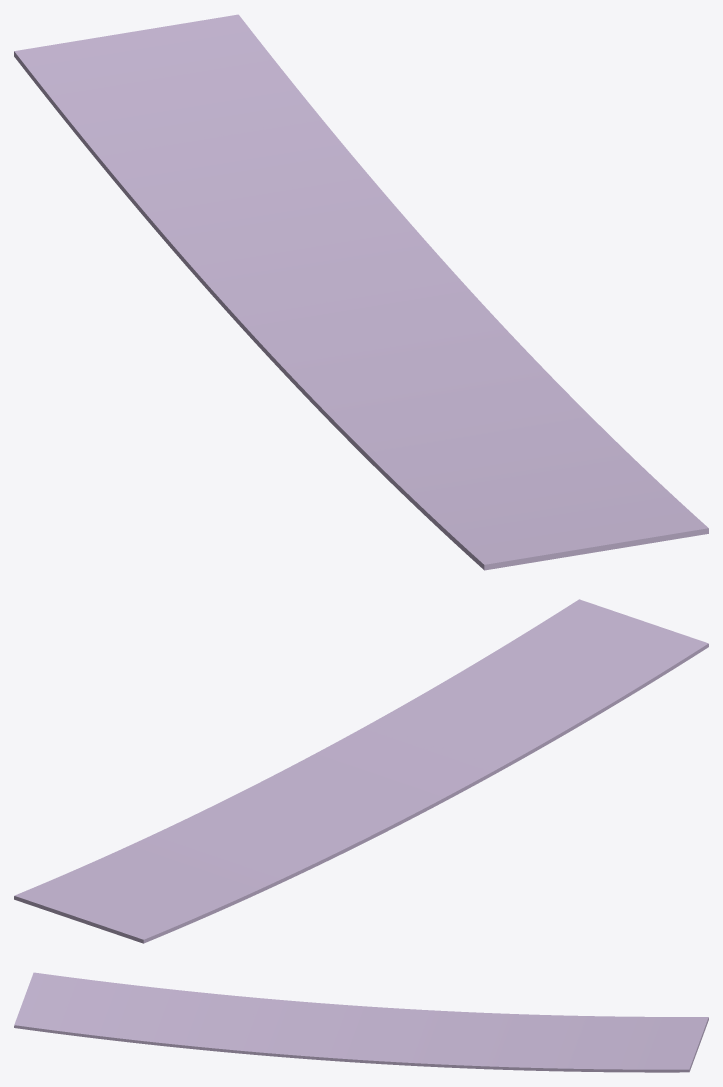
Rendered from giay_quy_tim.glb.
3 views of the same model, one above another, from view 1: azimuth 30°, elevation 25°; view 2: azimuth 150°, elevation 25°; view 3: azimuth 270°, elevation 25° (orthographic). The views are drawn at different scales.
Visible parts, largest first — view 1: giay_quy_tim; view 2: giay_quy_tim; view 3: giay_quy_tim.
Boxes of the visible parts, bbox=[...] form: giay_quy_tim: bbox=[14, 14, 708, 570]; giay_quy_tim: bbox=[14, 599, 708, 943]; giay_quy_tim: bbox=[14, 972, 708, 1072].
Bounding box in the file's own units: 0.0219 × 0.00157 × 0.0661.
